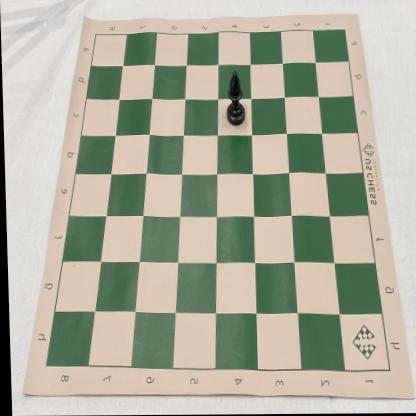black-bishop: (224, 70, 245, 126)
